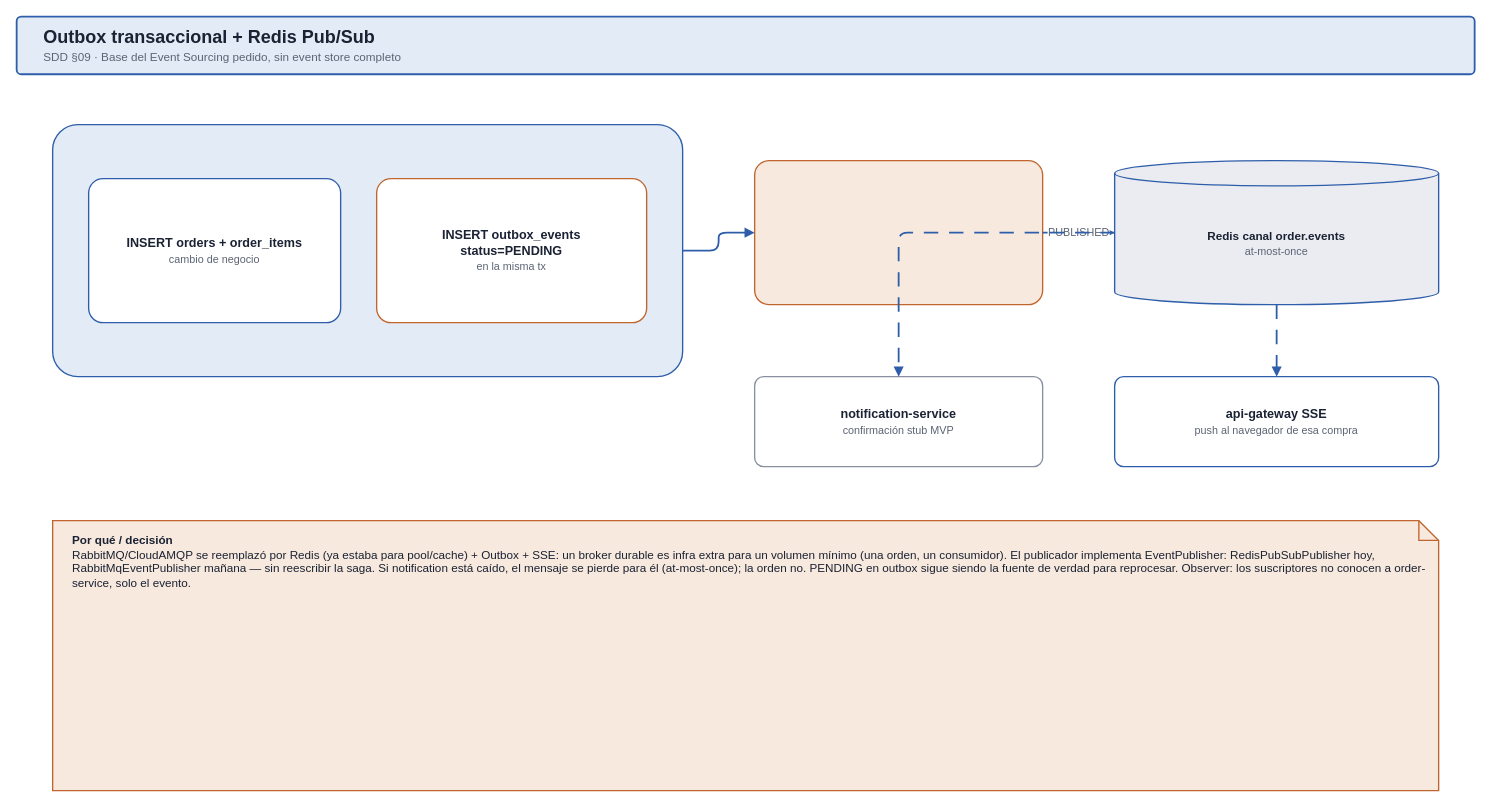
Image size: 1490x806. Some labels were removed from this diagram. Here are the shapes that lost their labels. From the top down, the box of each, then its label:
(52, 124, 683, 377): Misma transacción Postgres (schema order)
(754, 160, 1043, 305): OutboxRelay (dentro de order-service) polling PENDING
